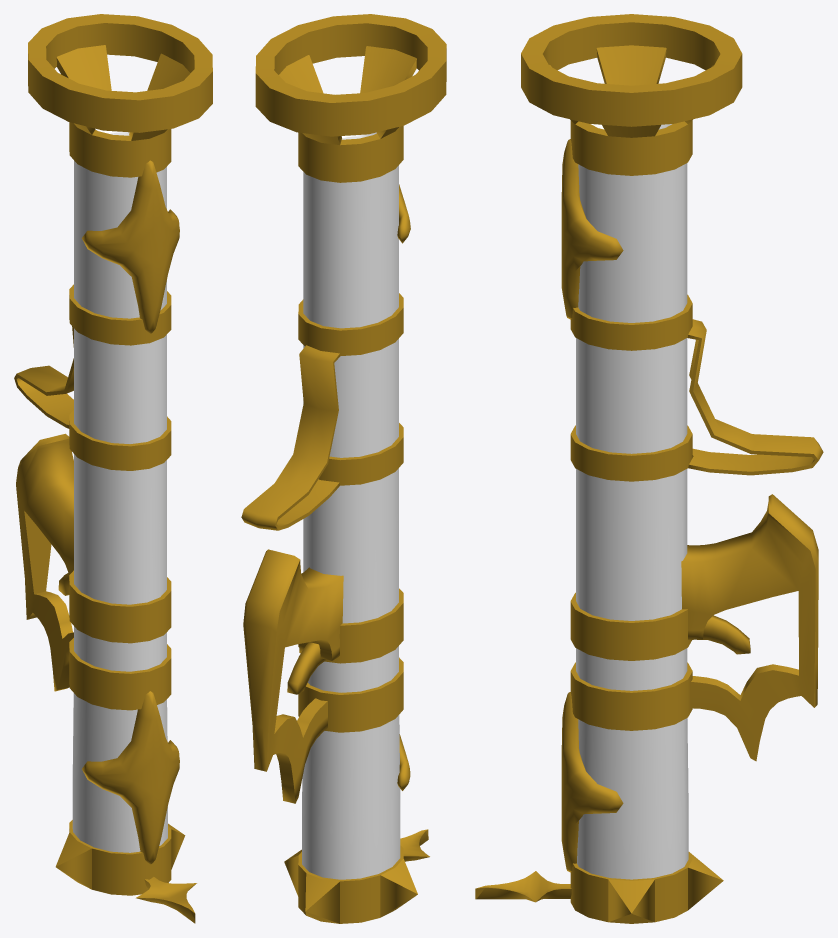
Rendered from Anti-Zooka.obj.
3 views of the same model, side by side, from view 1: azimuth 30°, elevation 25°; view 2: azimuth 150°, elevation 25°; view 3: azimuth 270°, elevation 25° (orthographic). The views are drawn at different scales.
Parts seen in each view (by area): view 1: Anti-Zooka_0, Anti-Zooka_1; view 2: Anti-Zooka_0, Anti-Zooka_1; view 3: Anti-Zooka_0, Anti-Zooka_1.
Part boxes in pixels (<box>): Anti-Zooka_0: <box>14,14,212,923</box>; Anti-Zooka_1: <box>72,128,167,852</box>; Anti-Zooka_0: <box>241,14,446,923</box>; Anti-Zooka_1: <box>302,132,400,879</box>; Anti-Zooka_0: <box>475,14,823,923</box>; Anti-Zooka_1: <box>576,124,688,879</box>.
Bounding box in the file's own units: 1.3 × 6.5 × 2.42.
Materials: 2 (2 with a texture image).
